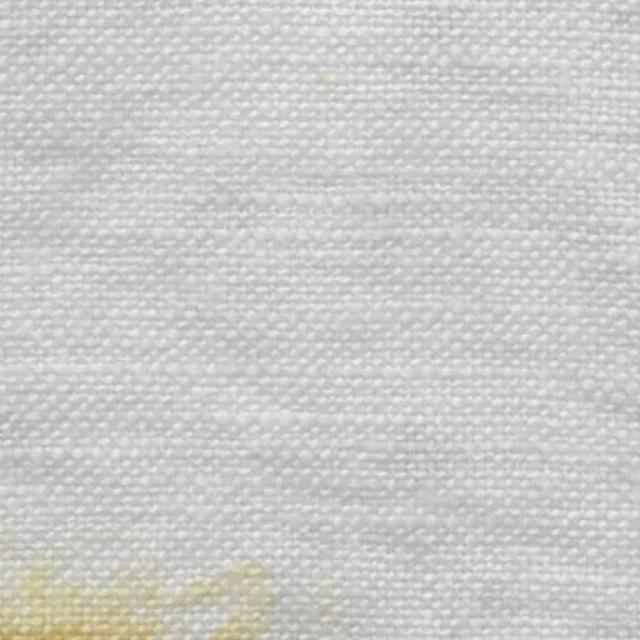Stain: (0, 542, 284, 640)
